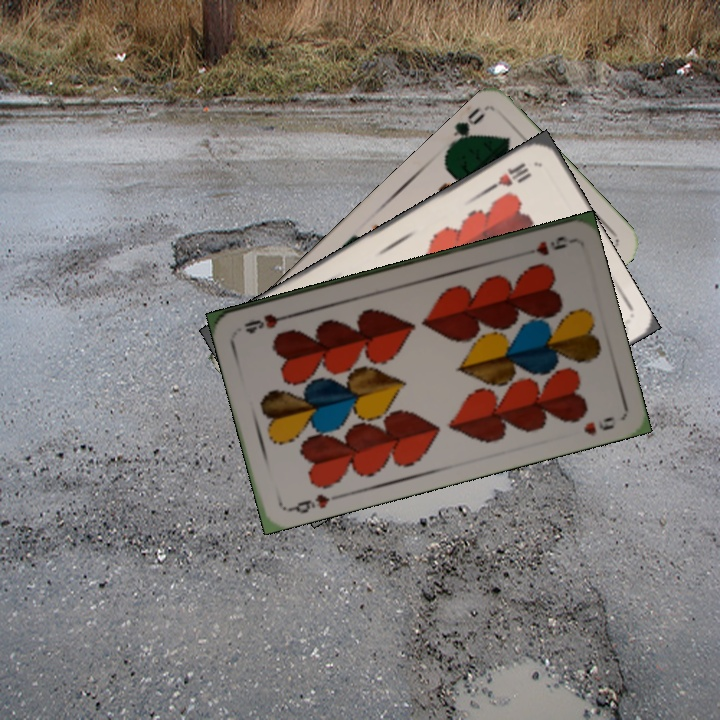GO: (443, 103, 488, 153)
H10: (482, 158, 534, 195)
H9: (516, 232, 574, 259), (284, 490, 342, 516)
